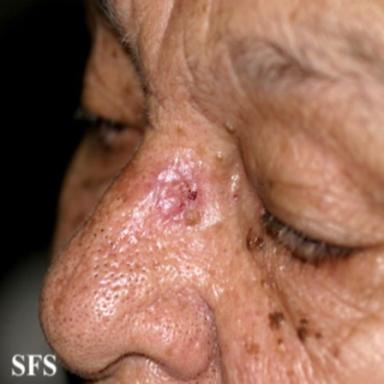basal-cell-carcinoma: (153, 154, 200, 221)
